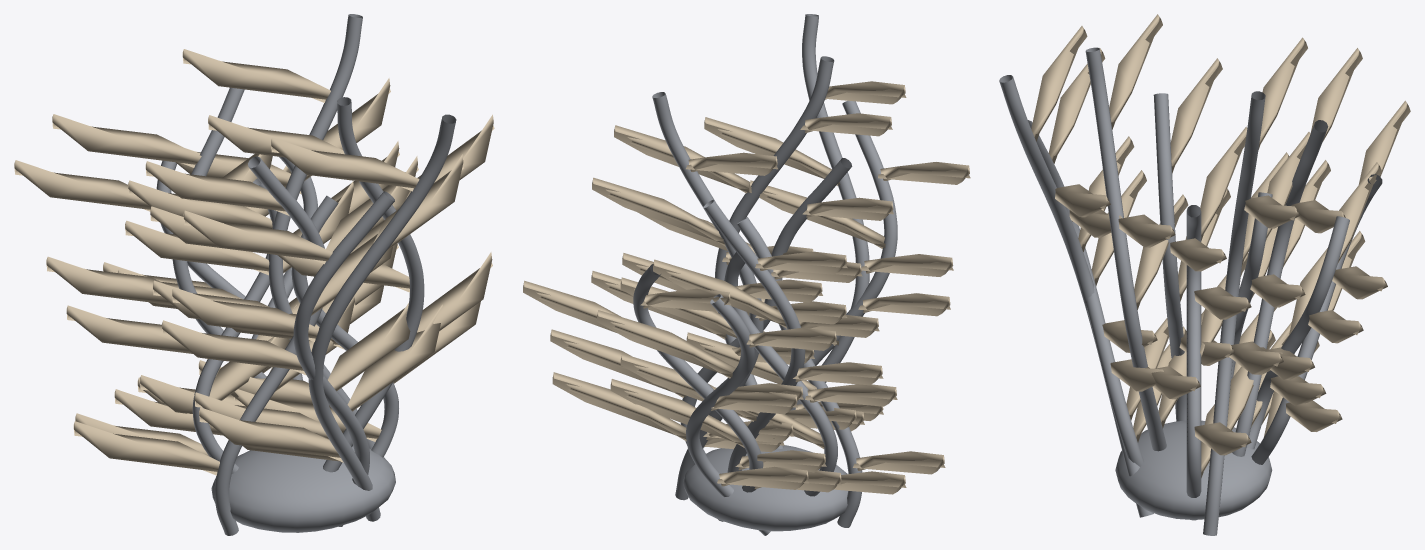
The model's file is bio_aquatic_frond_16_near.glb.
3 views of the same model, side by side, from view 1: azimuth 30°, elevation 25°; view 2: azimuth 150°, elevation 25°; view 3: azimuth 270°, elevation 25° (orthographic). The views are drawn at different scales.
Parts seen in each view (by area): view 1: Ruffled aquatic blade.010, Ruffled aquatic blade.035, Holdfast, Ruffled aquatic blade.040, Ruffled aquatic blade.020, Ruffled aquatic blade.025, Ruffled aquatic blade.045, Ruffled aquatic blade.005, Flexible stipe.002, Flexible stipe.007, Flexible stipe.004, Ruffled aquatic blade.030 (+9 smaller); view 2: Ruffled aquatic blade.030, Ruffled aquatic blade.005, Ruffled aquatic blade.015, Holdfast, Ruffled aquatic blade.020, Ruffled aquatic blade.045, Ruffled aquatic blade.040, Ruffled aquatic blade.010, Ruffled aquatic blade.025, Ruffled aquatic blade.035, Ruffled aquatic blade, Flexible stipe.002 (+9 smaller); view 3: Holdfast, Ruffled aquatic blade.025, Flexible stipe.005, Ruffled aquatic blade.010, Ruffled aquatic blade.040, Flexible stipe.008, Ruffled aquatic blade.035, Ruffled aquatic blade, Ruffled aquatic blade.005, Ruffled aquatic blade.030, Ruffled aquatic blade.020, Ruffled aquatic blade.015 (+9 smaller).
Boxes of the visible parts, x1,y1,x2,y2 form: Ruffled aquatic blade.010: (172,137,463,462); Ruffled aquatic blade.035: (162,210,442,462); Holdfast: (211,445,395,532); Ruffled aquatic blade.040: (125,49,398,407); Ruffled aquatic blade.020: (73,156,418,475); Ruffled aquatic blade.025: (194,114,494,438); Ruffled aquatic blade.045: (66,180,354,456); Ruffled aquatic blade.005: (46,114,299,413); Flexible stipe.002: (308,114,456,521); Flexible stipe.007: (293,191,394,526); Flexible stipe.004: (214,156,324,535); Ruffled aquatic blade.030: (14,160,384,402); Ruffled aquatic blade.030: (552,310,836,489); Ruffled aquatic blade.005: (620,251,883,472); Ruffled aquatic blade.015: (523,280,842,492); Holdfast: (683,445,847,531); Ruffled aquatic blade.020: (638,197,945,474); Ruffled aquatic blade.045: (620,277,906,494); Ruffled aquatic blade.040: (592,152,847,442); Ruffled aquatic blade.010: (704,81,953,420); Ruffled aquatic blade.025: (591,113,892,429); Ruffled aquatic blade.035: (716,162,970,431); Ruffled aquatic blade: (550,253,862,452); Flexible stipe.002: (790,14,869,410); Holdfast: (1115,420,1272,519); Ruffled aquatic blade.025: (1109,14,1202,428); Flexible stipe.005: (1085,47,1166,451); Ruffled aquatic blade.010: (1031,26,1169,420); Ruffled aquatic blade.040: (1227,37,1307,430); Flexible stipe.008: (1203,91,1265,535); Ruffled aquatic blade.035: (1048,48,1186,442); Ruffled aquatic blade: (1194,126,1251,477); Ruffled aquatic blade.005: (1251,48,1362,426); Ruffled aquatic blade.030: (1264,100,1410,436); Ruffled aquatic blade.020: (1170,58,1234,365); Ruffled aquatic blade.015: (1262,162,1382,424).
Size of the model in its own units: 1.8 by 1.89 by 1.57.
